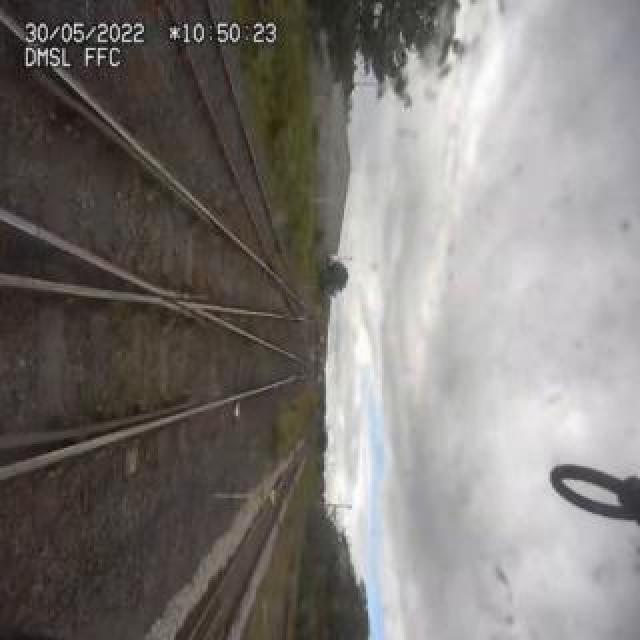rusted-track: (0, 418, 118, 444)
